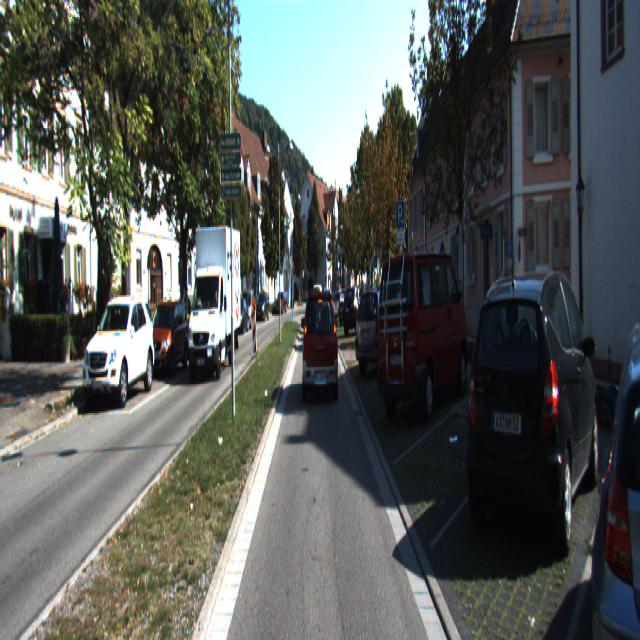Car: (466, 261, 602, 574), (376, 246, 472, 427), (594, 309, 640, 638), (185, 230, 242, 380), (84, 294, 156, 404), (355, 287, 417, 377), (304, 292, 339, 404), (143, 300, 190, 380), (105, 306, 142, 373), (342, 286, 378, 335), (182, 310, 214, 362), (338, 289, 363, 327), (228, 297, 250, 334), (240, 288, 256, 329), (255, 292, 270, 322)
